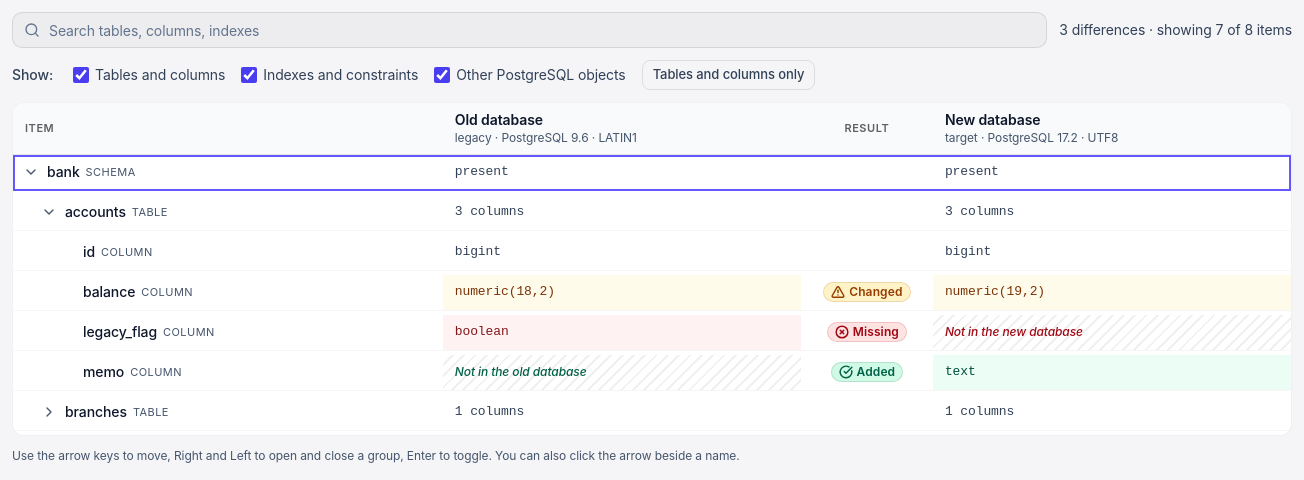
Test: StructureCompareView › searches across tables and columns
Type "branches" into the search field named "Search the structure" at (530, 30), box [12, 12, 1047, 48]
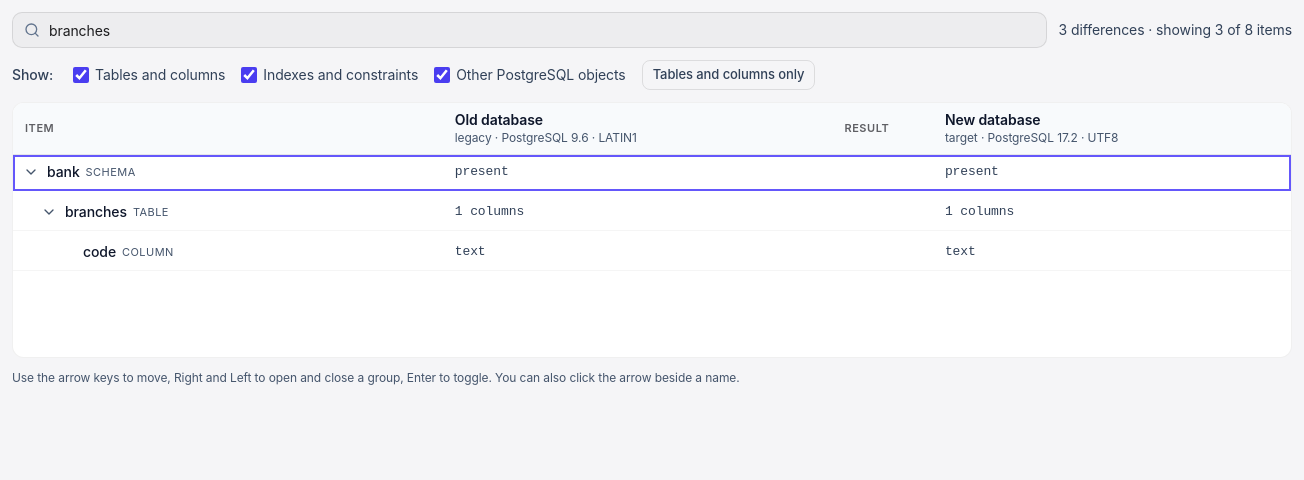
Expected: the row with test id "structure-row" that starts with "branches" is shown, [13, 194, 1291, 230]
Expected: the text "accounts" is gone
